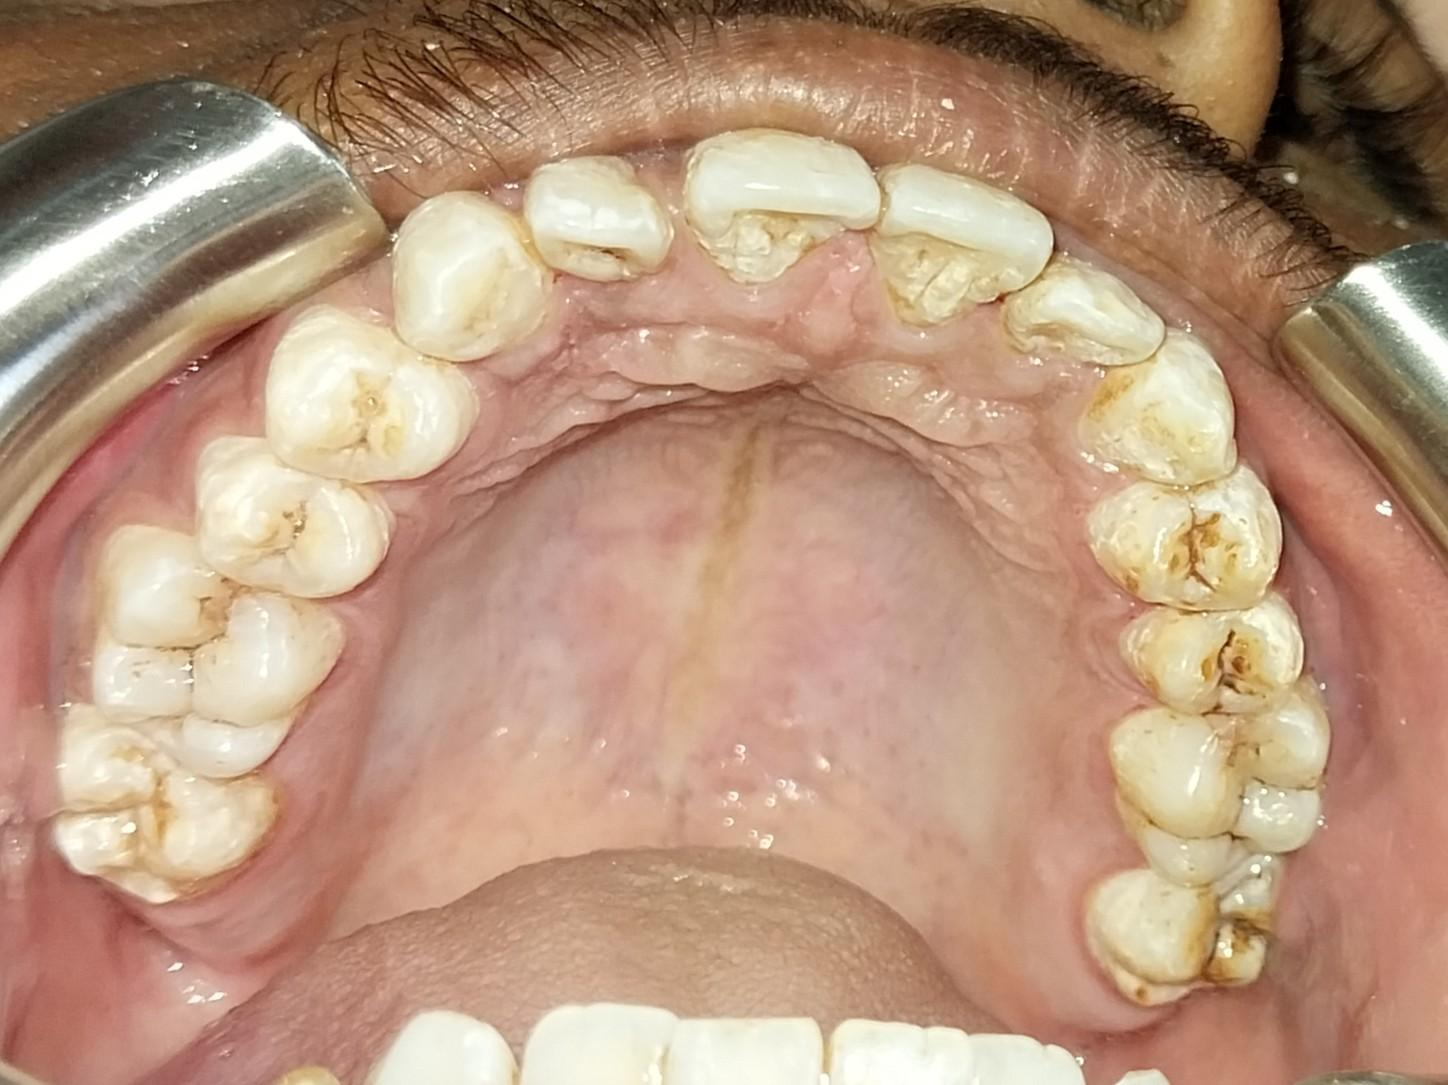D: (101, 537, 321, 774), (1128, 698, 1328, 882), (200, 443, 394, 599), (1090, 868, 1279, 1005), (1136, 609, 1299, 719)
